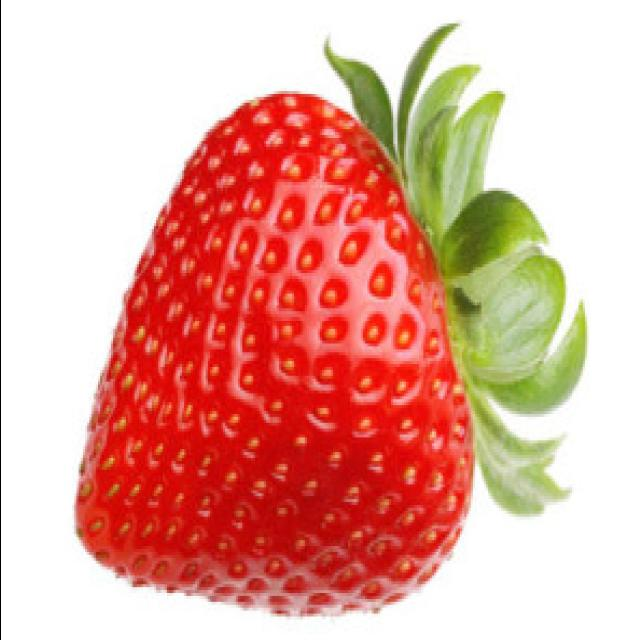strawberry: (66, 12, 590, 626)
